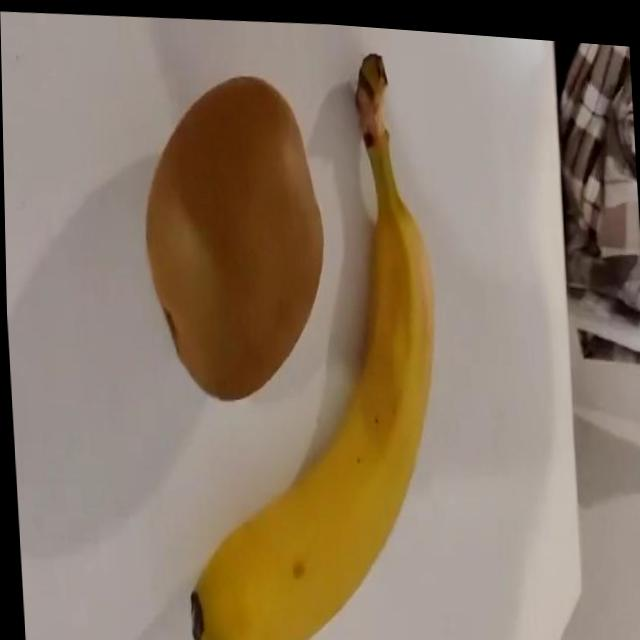Banana: (155, 33, 451, 640)
